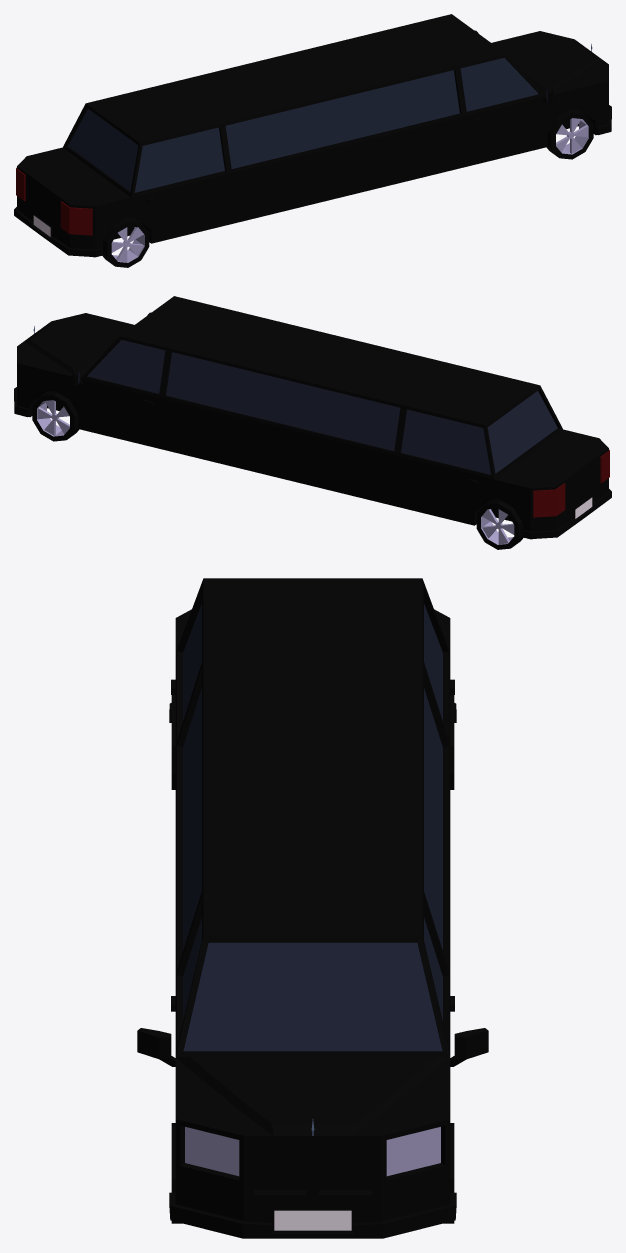
The model's file is limo.glb.
3 renders of one model, top to bottom at view 1: azimuth 30°, elevation 25°; view 2: azimuth 150°, elevation 25°; view 3: azimuth 270°, elevation 25°, orthographic. The views are drawn at different scales.
Parts seen in each view (by area): view 1: body_trim, body_glass, body_tail, wheel_rr_tire, wheel_fr_rim, wheel_fr_tire, wheel_rr_rim; view 2: body_trim, body_glass, body_tail, wheel_rl_tire, wheel_fl_rim, wheel_fl_tire, wheel_rl_rim; view 3: body_trim, body_glass, body_lamp, body_chrome.
Boxes of the visible parts, x1,y1,x2,y2 form: body_trim: (14, 14, 611, 257); body_glass: (68, 57, 547, 192); body_tail: (16, 167, 92, 235); wheel_rr_tire: (104, 219, 149, 267); wheel_fr_rim: (556, 118, 588, 154); wheel_fr_tire: (551, 109, 593, 159); wheel_rr_rim: (111, 227, 143, 262); body_trim: (14, 296, 611, 539); body_glass: (78, 339, 557, 474); body_tail: (533, 449, 609, 517); wheel_rl_tire: (476, 501, 521, 549); wheel_fl_rim: (37, 400, 69, 436); wheel_fl_tire: (32, 391, 74, 441); wheel_rl_rim: (482, 509, 514, 544); body_trim: (137, 578, 488, 1238); body_glass: (183, 604, 442, 1051); body_lamp: (185, 1127, 440, 1176); body_chrome: (274, 1210, 351, 1230).
Size of the model in its own units: 10.24 by 2.01 by 2.81.
